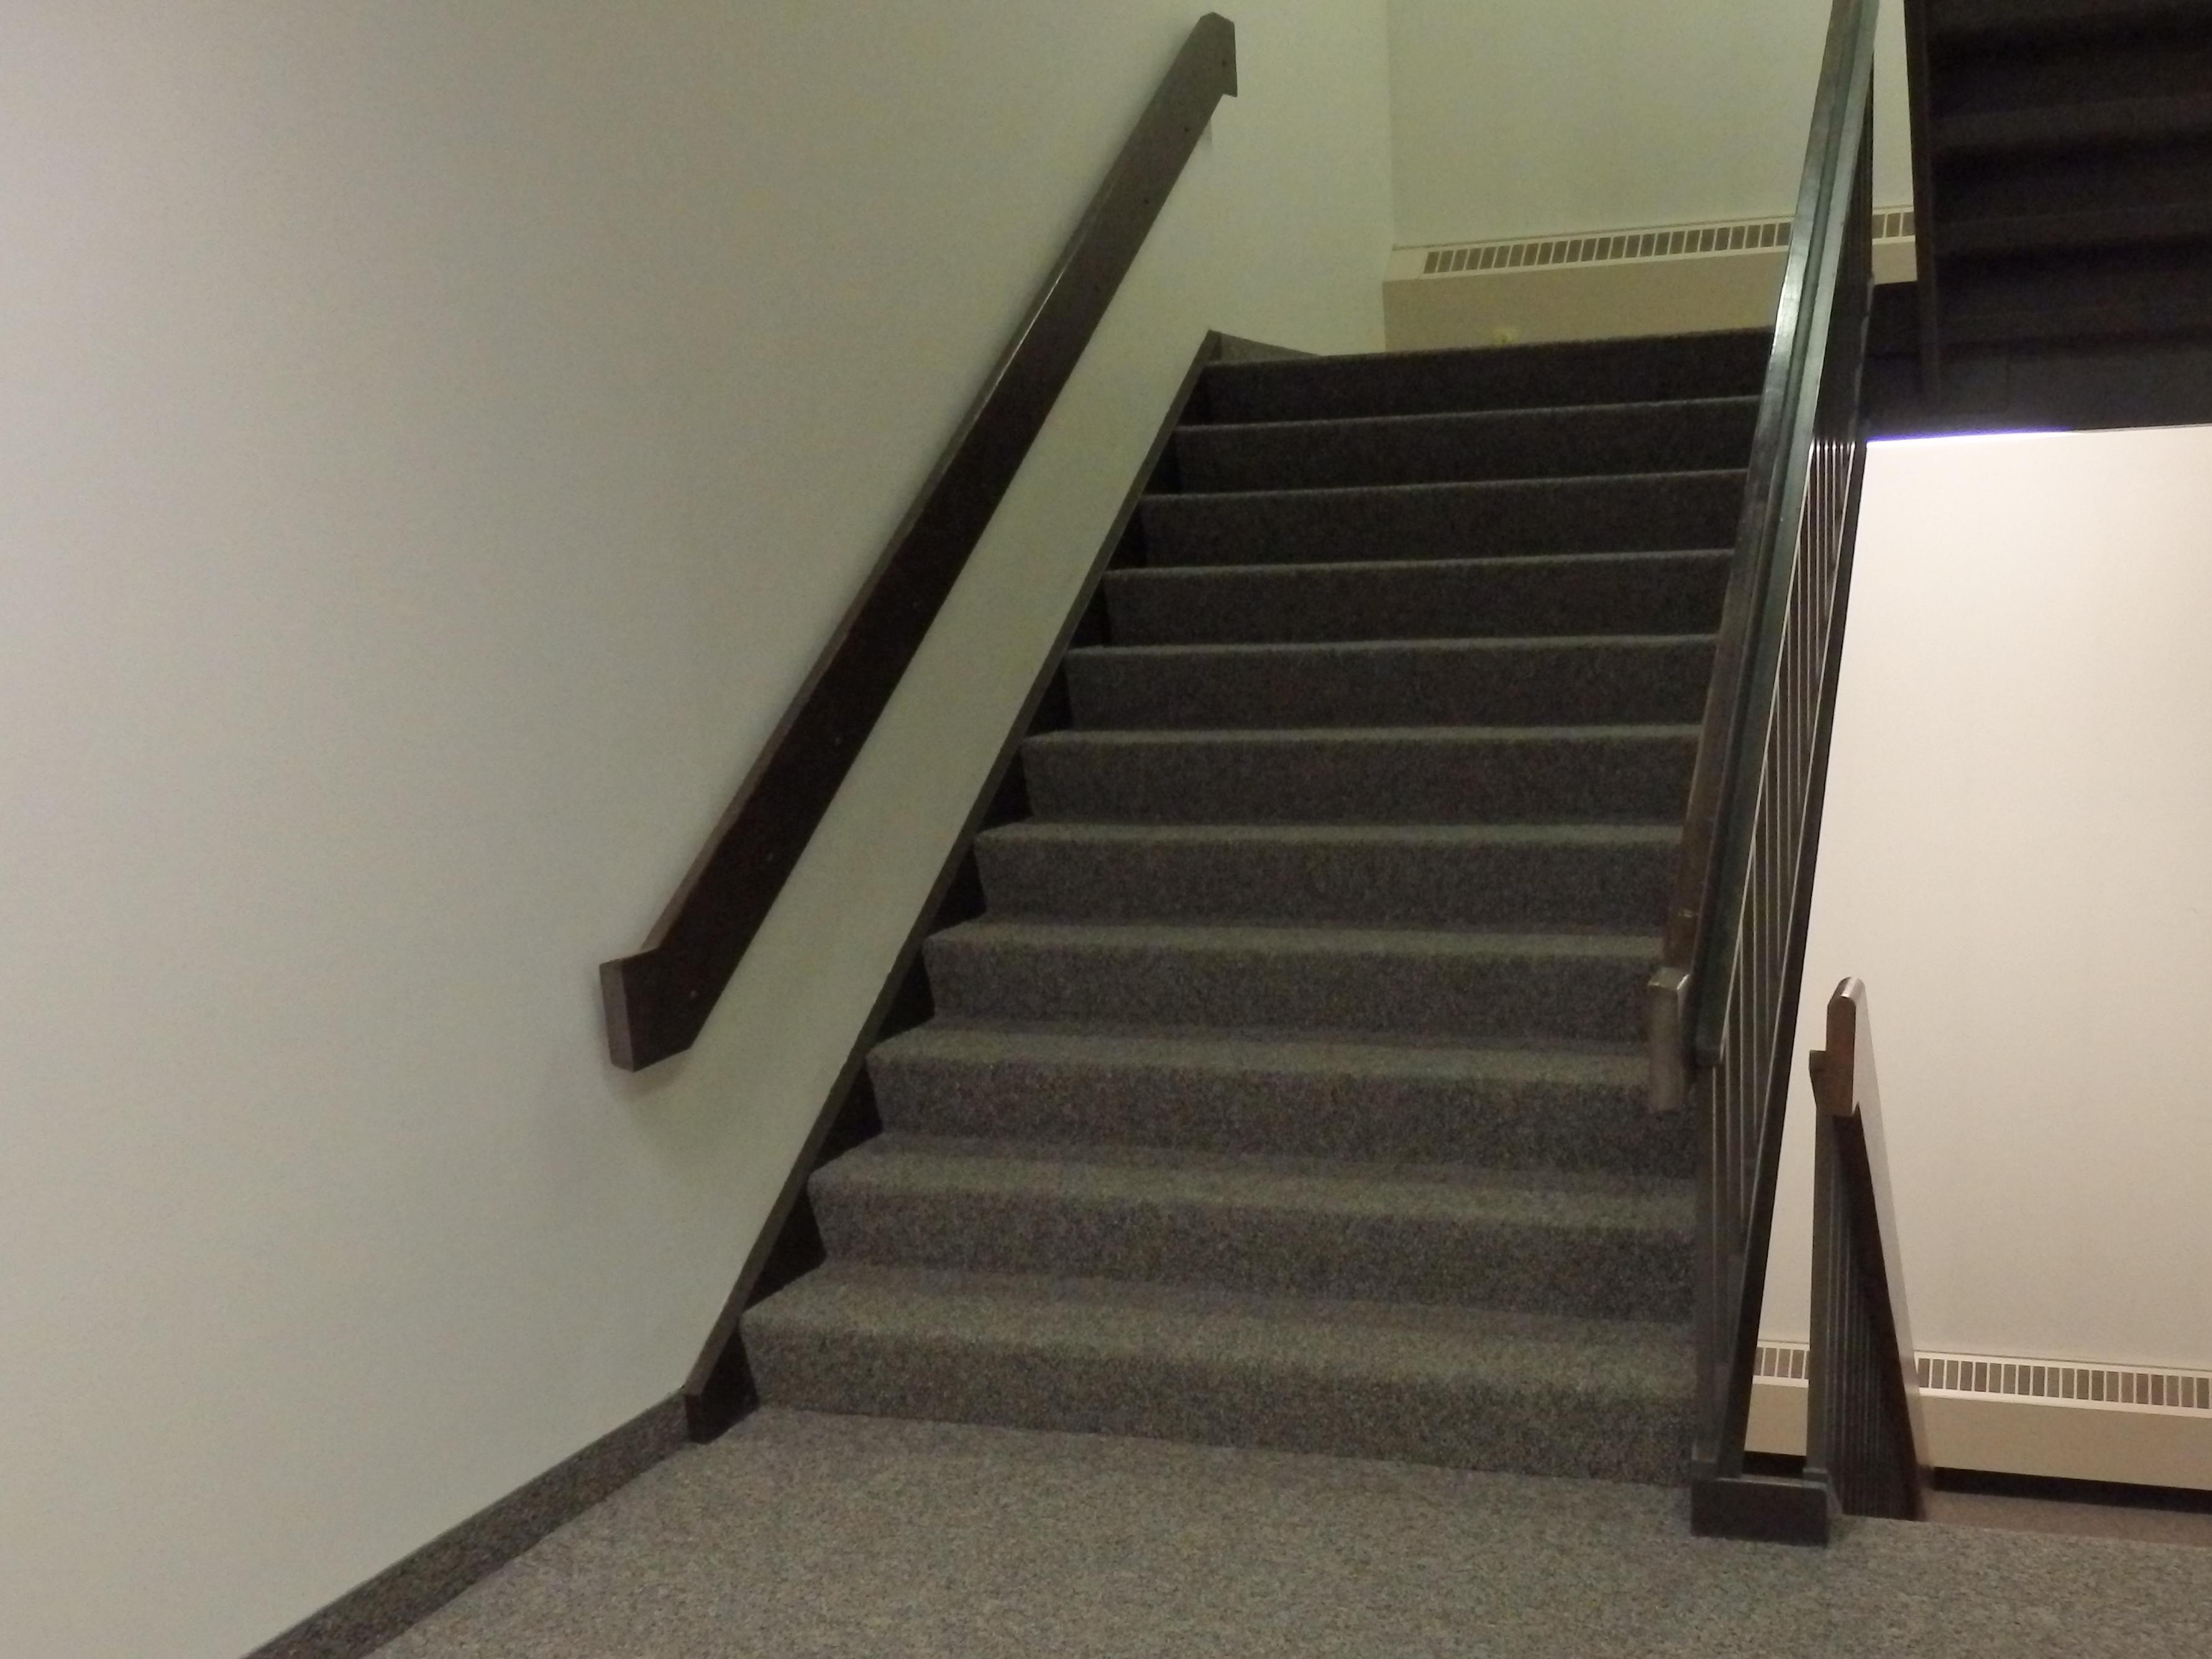stairs_up: (723, 281, 1803, 1455)
